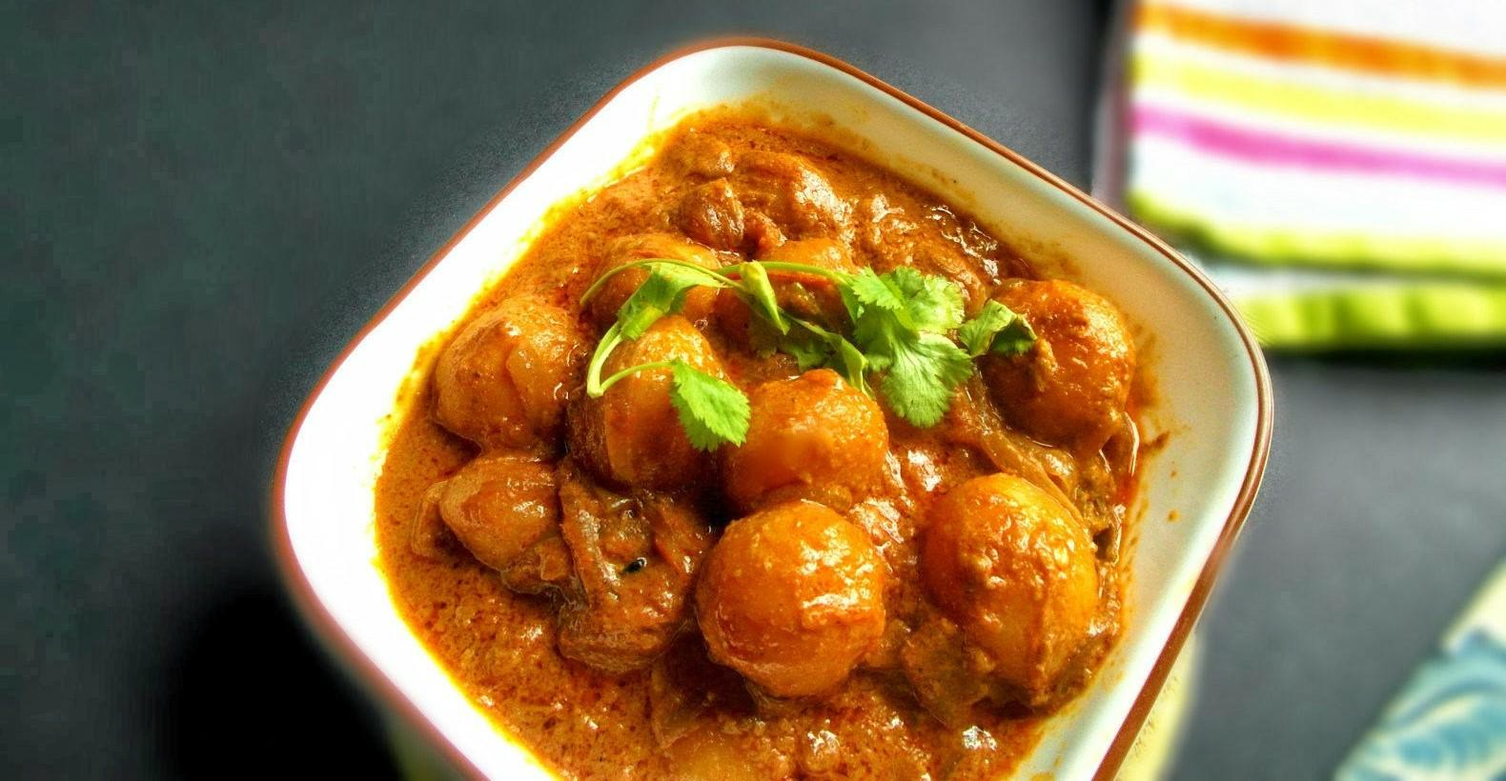DumAloo: (369, 103, 1149, 781)
